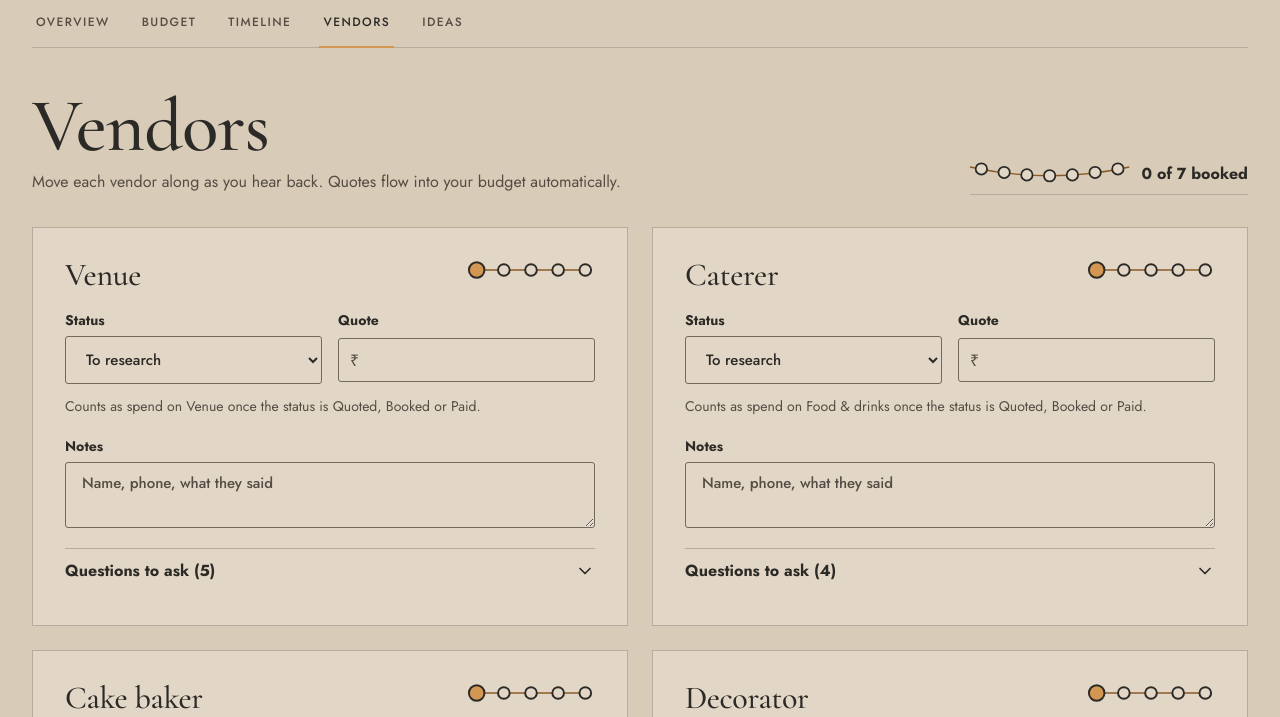
Test: Vendors panel › moves a vendor along and feeds its quote into the budget
(page scrolled)
Expected: the heading "Vendors" is shown, [32,80,269,172]
Select "Booked" in the 1st dropdown labelled "Status": (194, 360) [65,336,322,384]
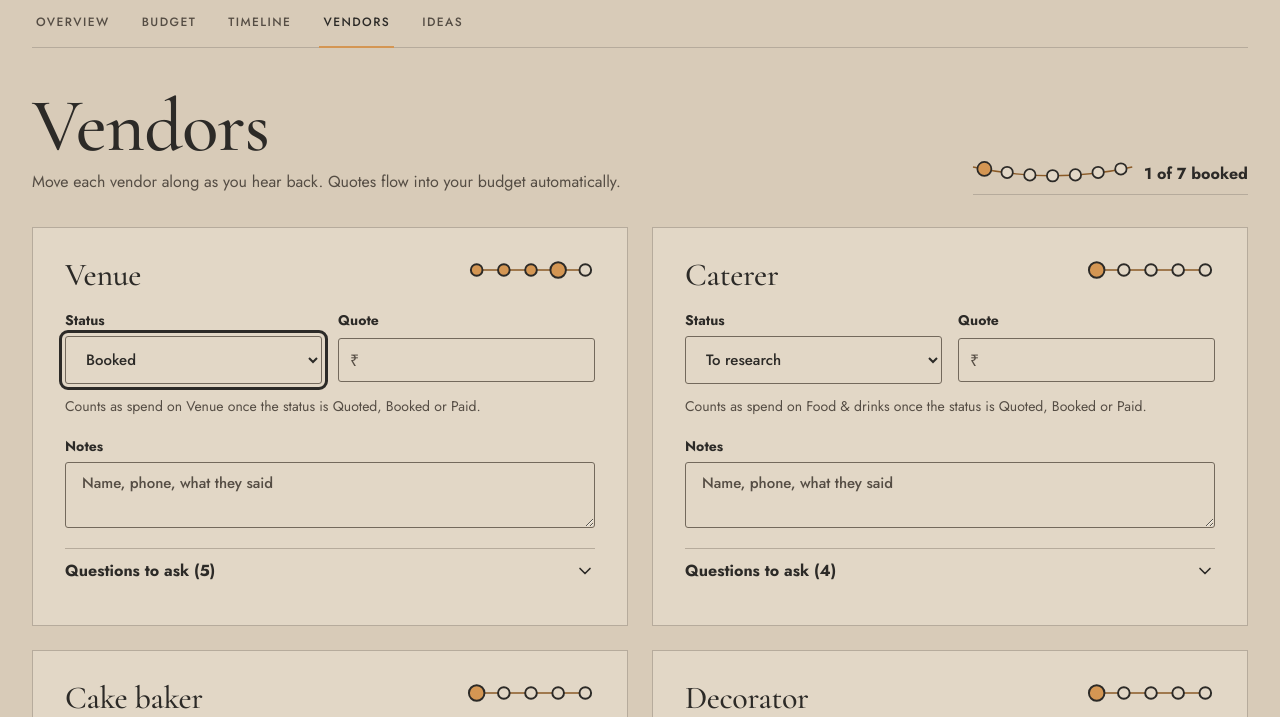
Expected: the text "1 of 7 booked" is shown, [1144,161,1248,186]
In the 1st field labelled "Quote": (466, 360) [338,338,595,382], type "9,000"
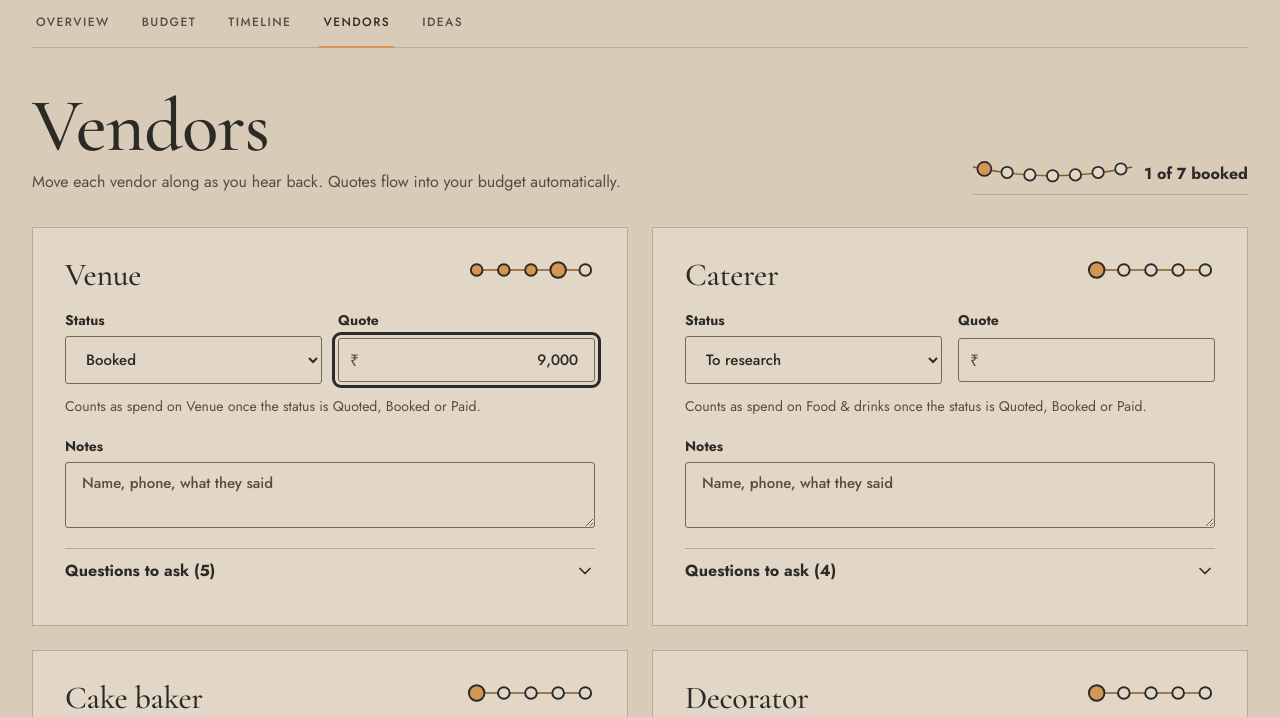
Click the tab "Budget": (169, 24) [138,0,200,48]
(page scrolled)
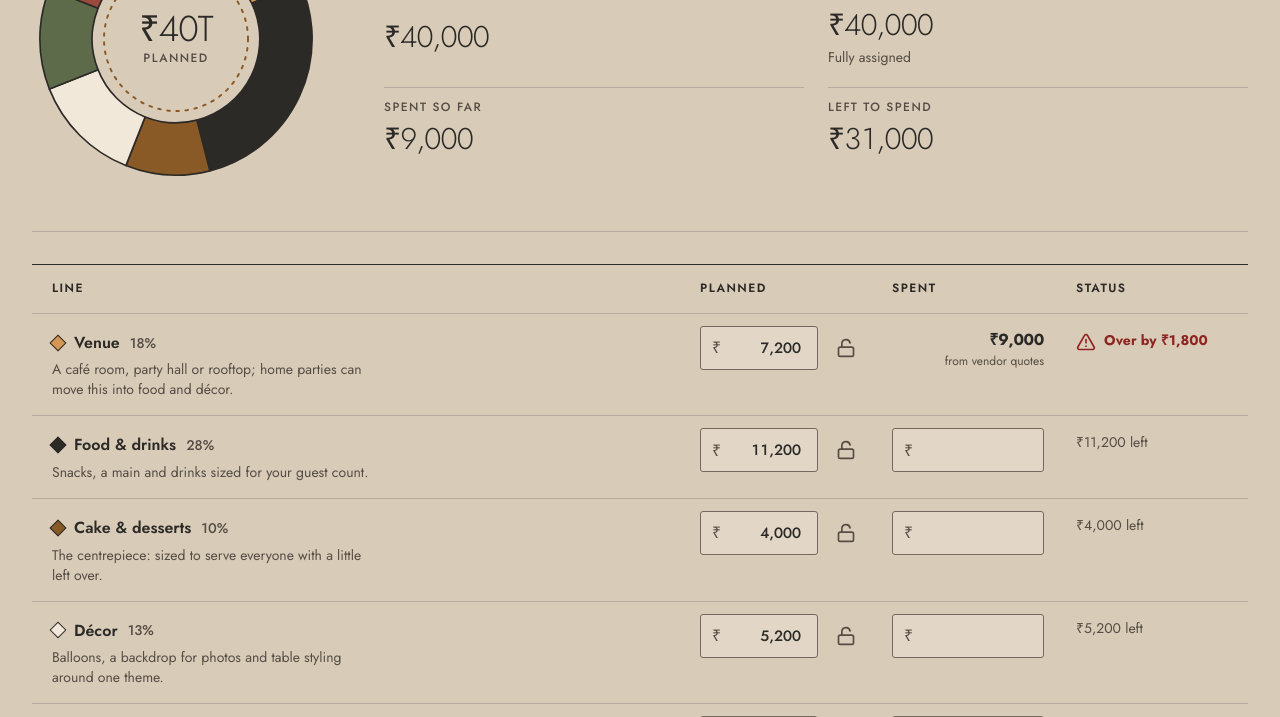
Expected: the text "from vendor quotes" is shown, [945,352,1044,370]
